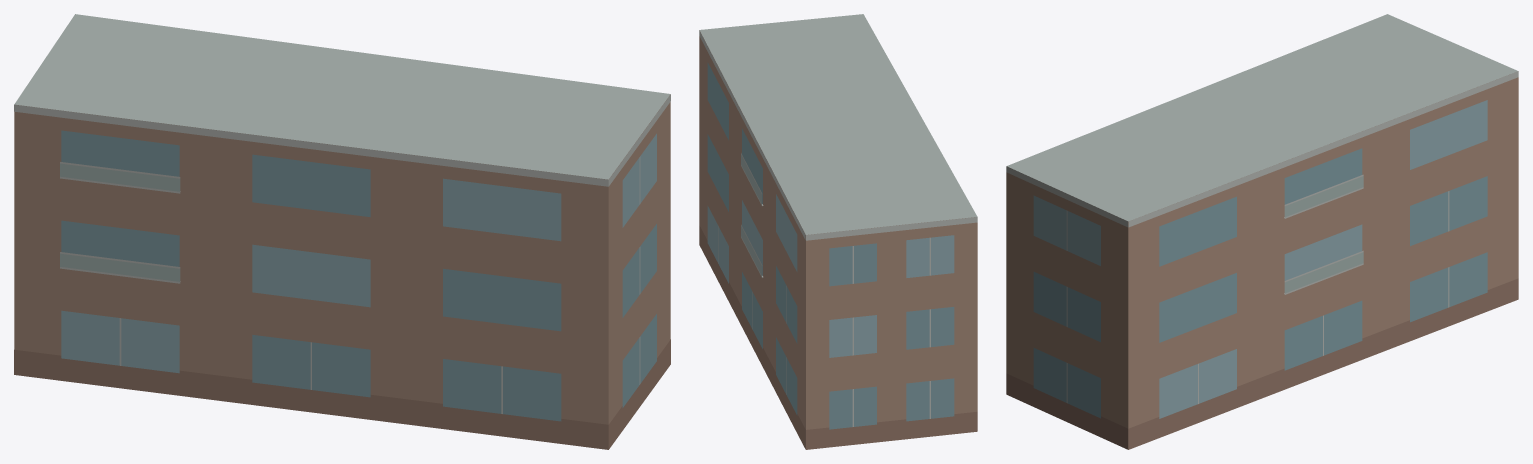
The model's file is survey-upis-32581922.glb.
The picture shows the model from 3 angles, left to right: view 1: azimuth 30°, elevation 25°; view 2: azimuth 150°, elevation 25°; view 3: azimuth 270°, elevation 25°; orthographic projection. The views are drawn at different scales.
Parts seen in each view (by area): view 1: survey-upis-32581922.tmp; view 2: survey-upis-32581922.tmp; view 3: survey-upis-32581922.tmp.
Part boxes in pixels (x1,y1,x2,y2): survey-upis-32581922.tmp: (14, 14, 670, 449); survey-upis-32581922.tmp: (699, 14, 977, 449); survey-upis-32581922.tmp: (1006, 14, 1518, 449).
Bounding box in the file's own units: 17.84 × 9.15 × 18.6.
